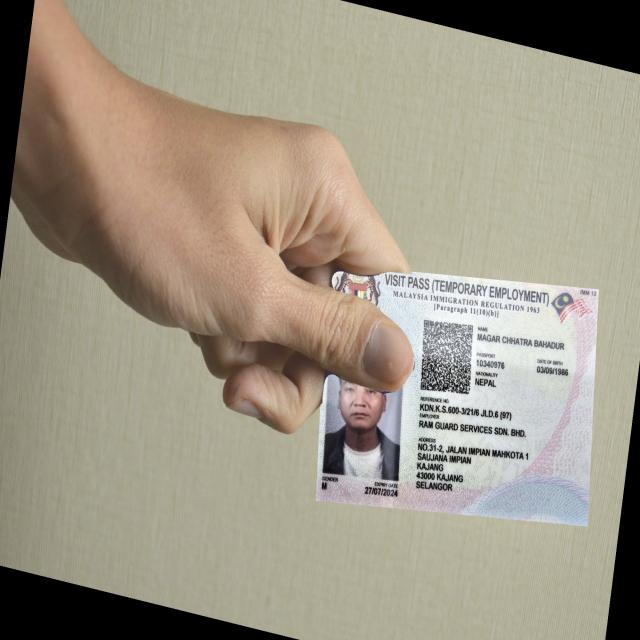ikad-temp: (315, 269, 599, 527)
